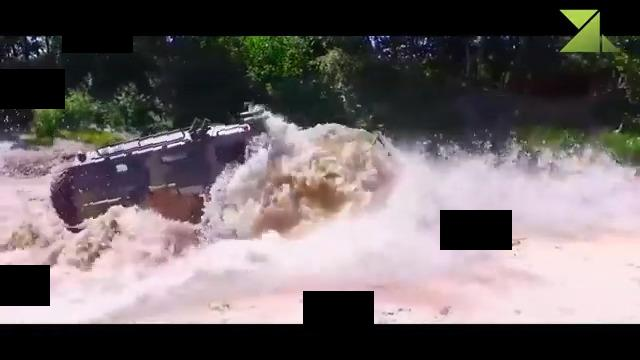MIL_HMMWV: (49, 105, 268, 238)
